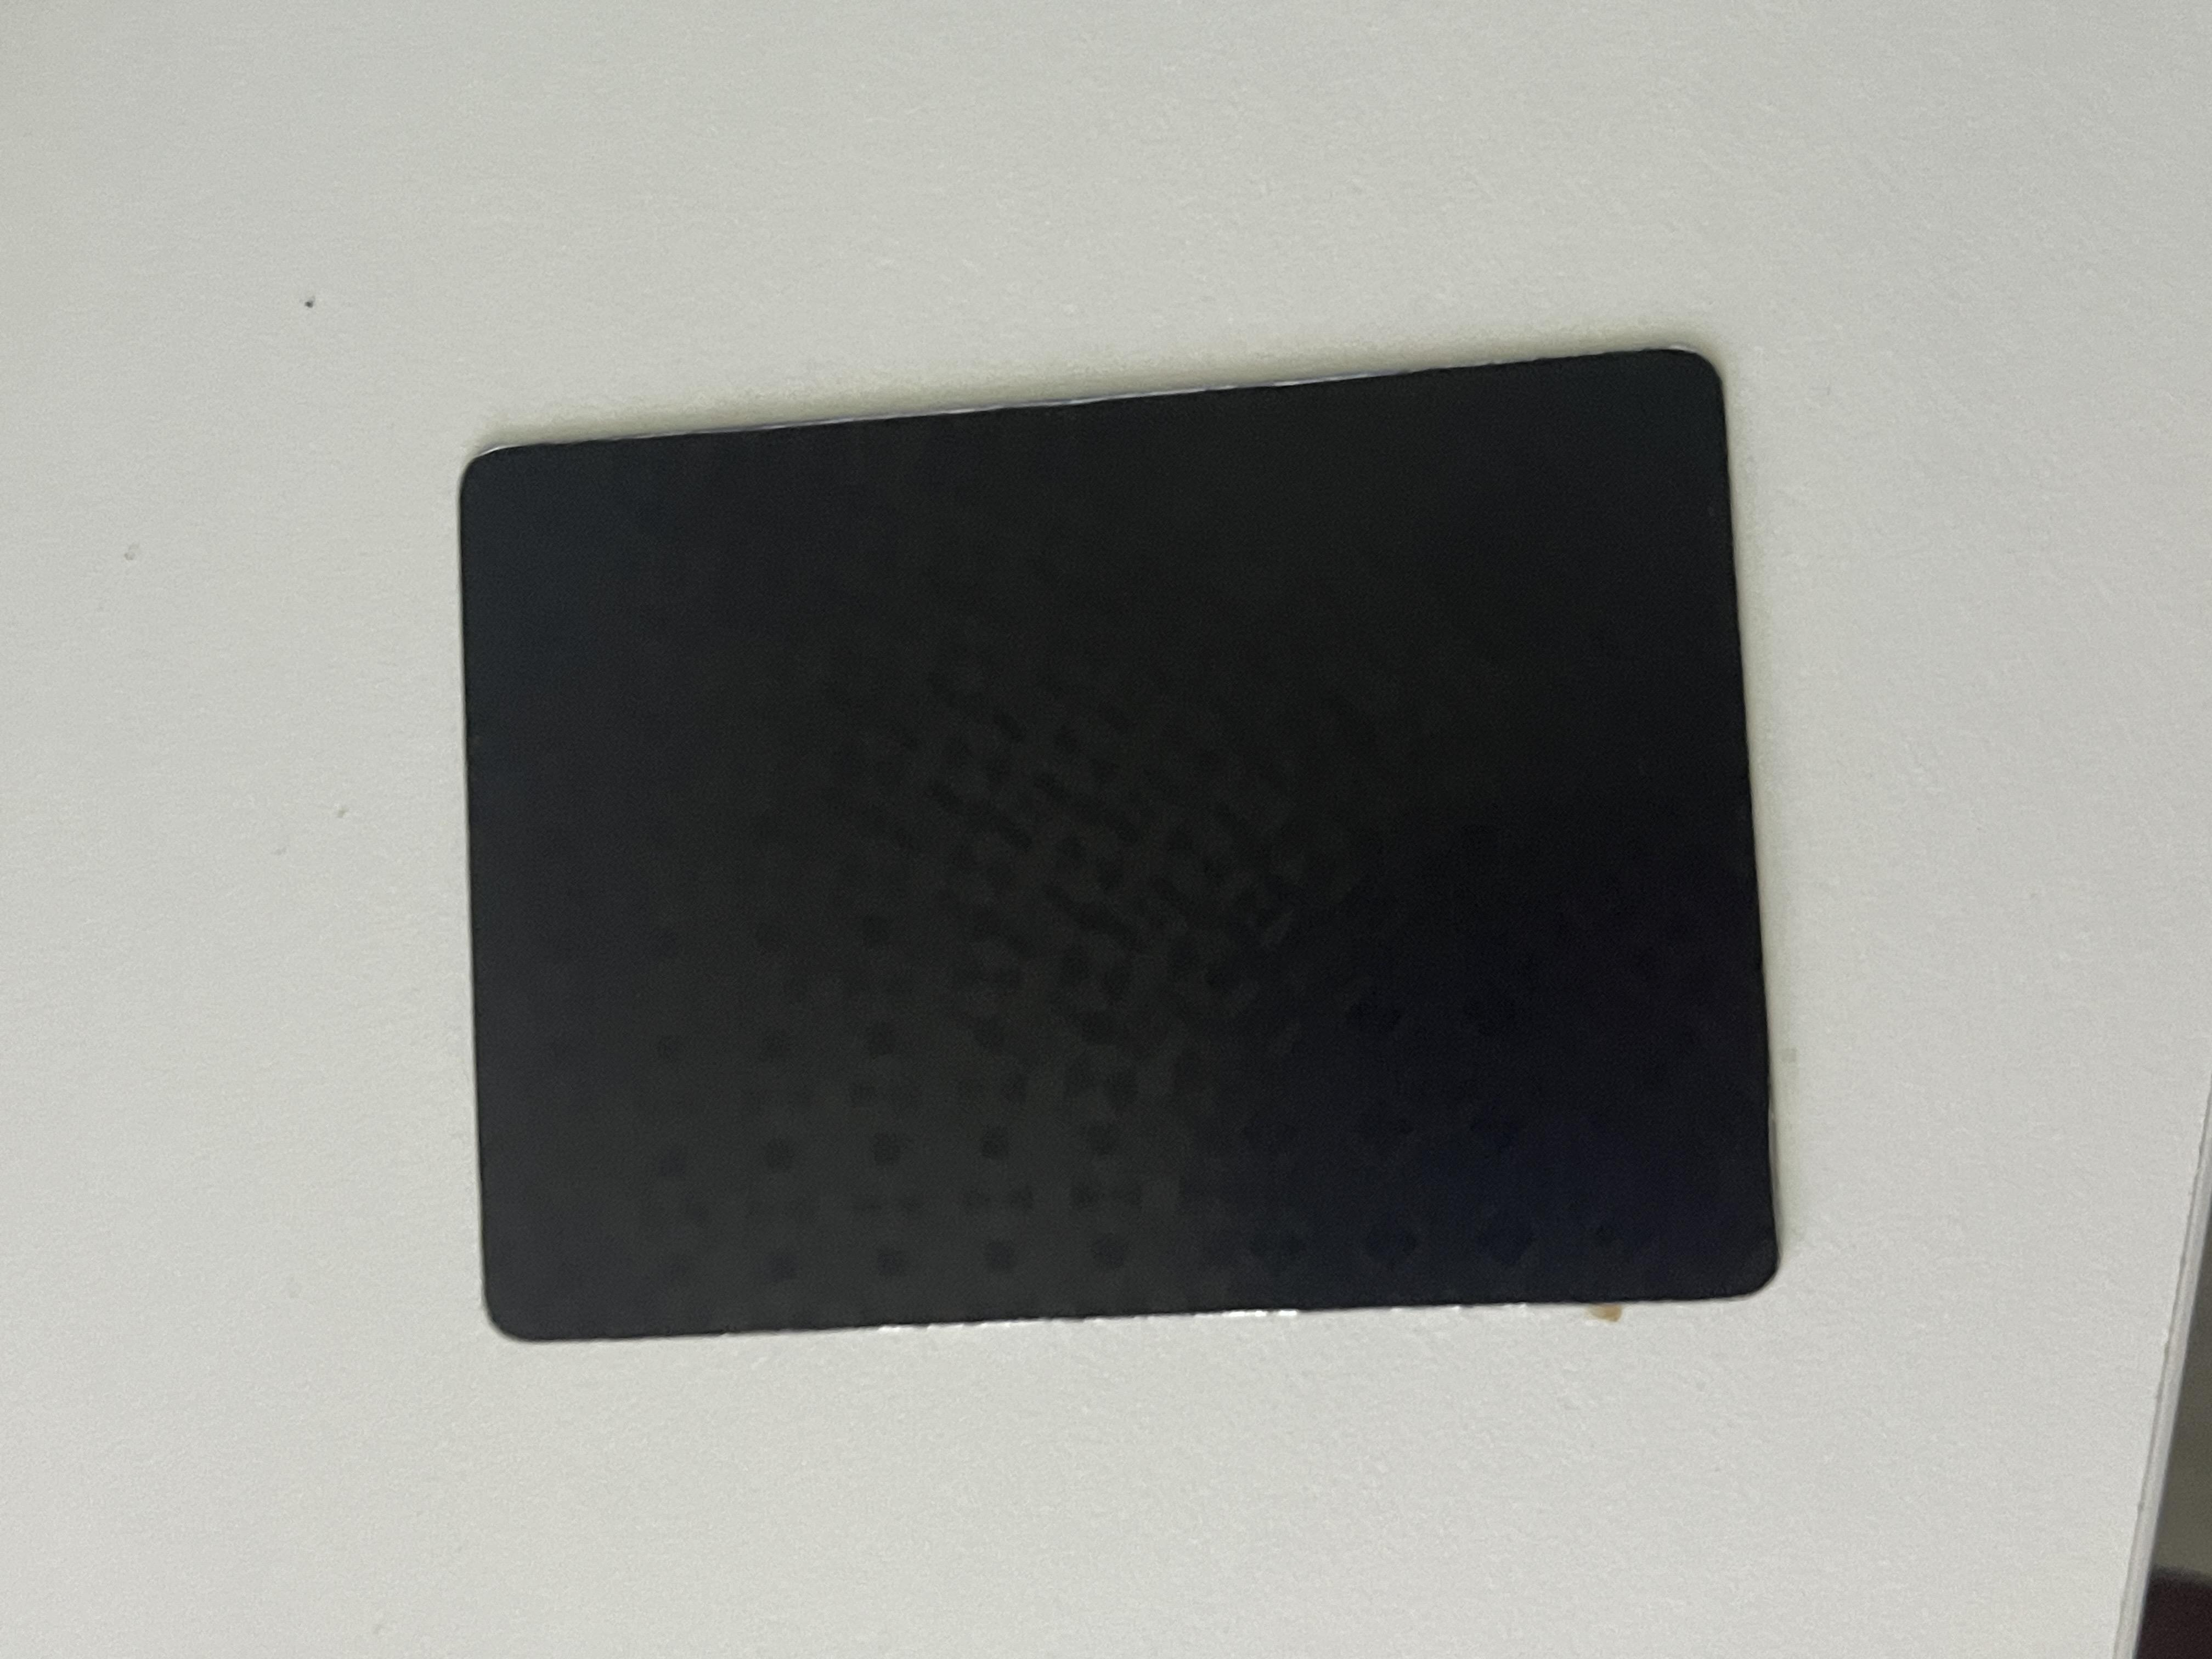BACK: (397, 364, 1785, 1317)
